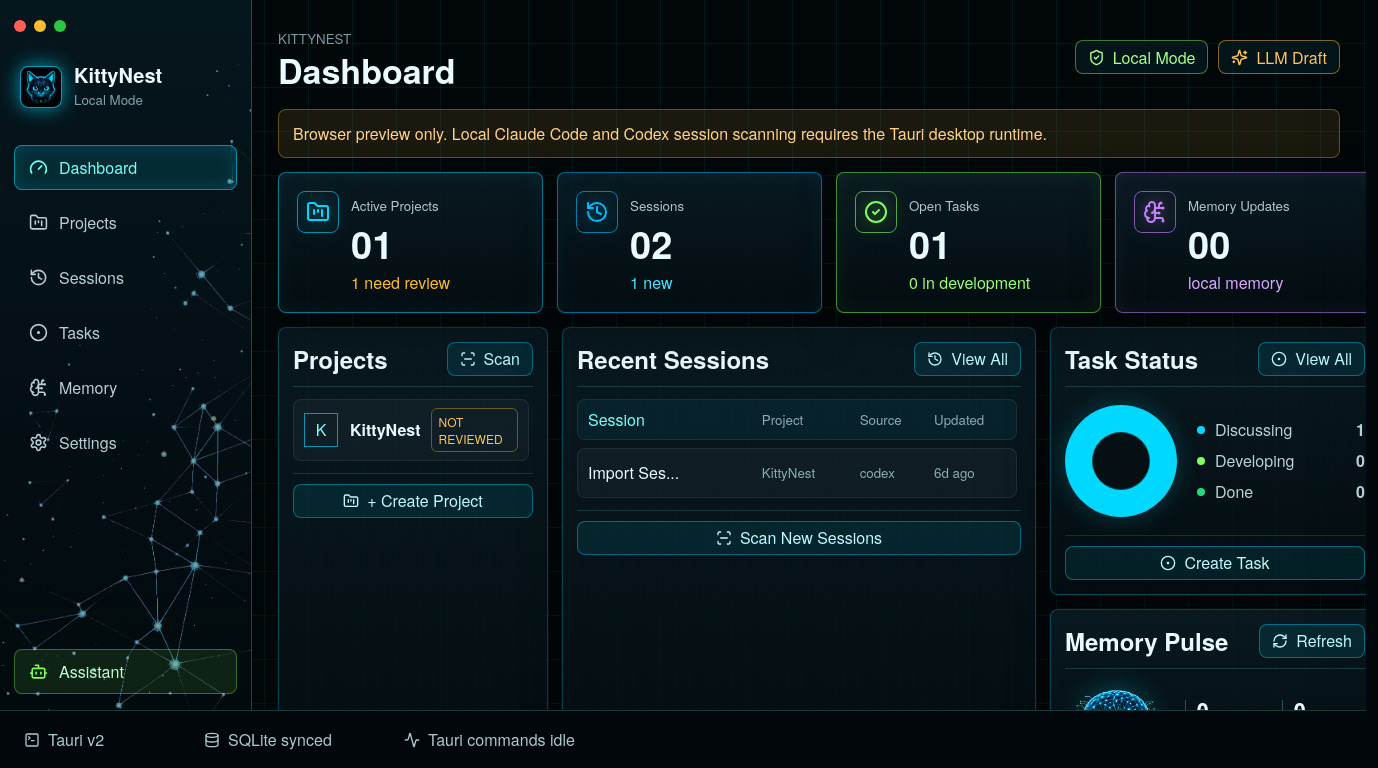
Test: KittyNest dashboard › shows saved task list columns with created date
Click the button "Tasks" at (126, 332), box [14, 310, 237, 355]
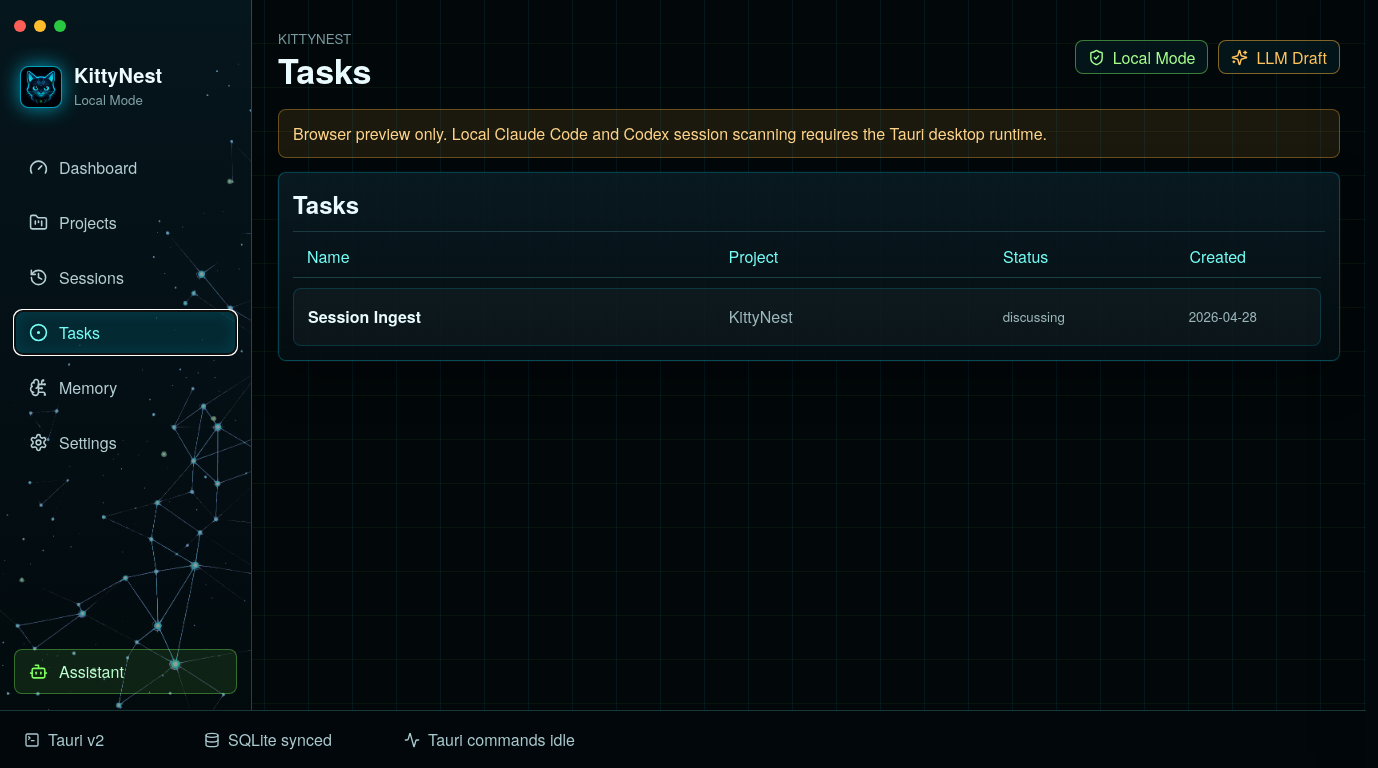
Expected: the column heading "Name" is shown, [307, 245, 350, 268]
Expected: the column heading "Created" is shown, [1189, 245, 1246, 268]
Expected: the button "Session Ingest KittyNest discussing 2026-04-28" is shown, [293, 288, 1321, 346]
